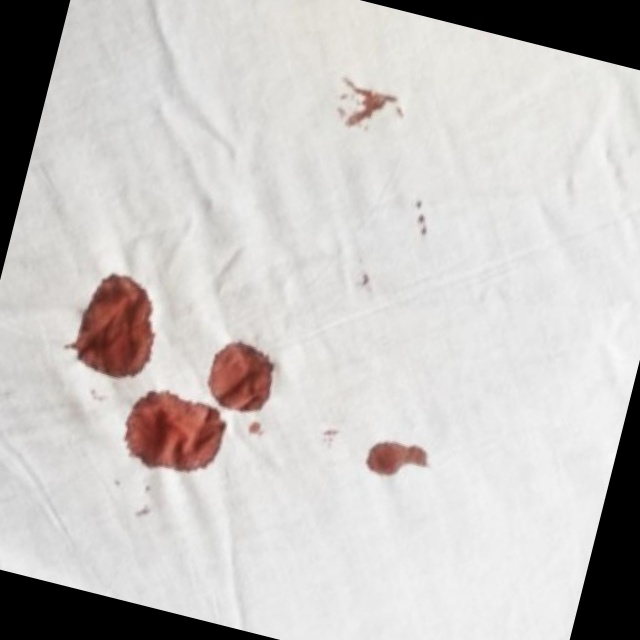blood: (64, 265, 174, 388), (113, 383, 237, 488), (201, 333, 284, 425), (356, 421, 441, 493)
